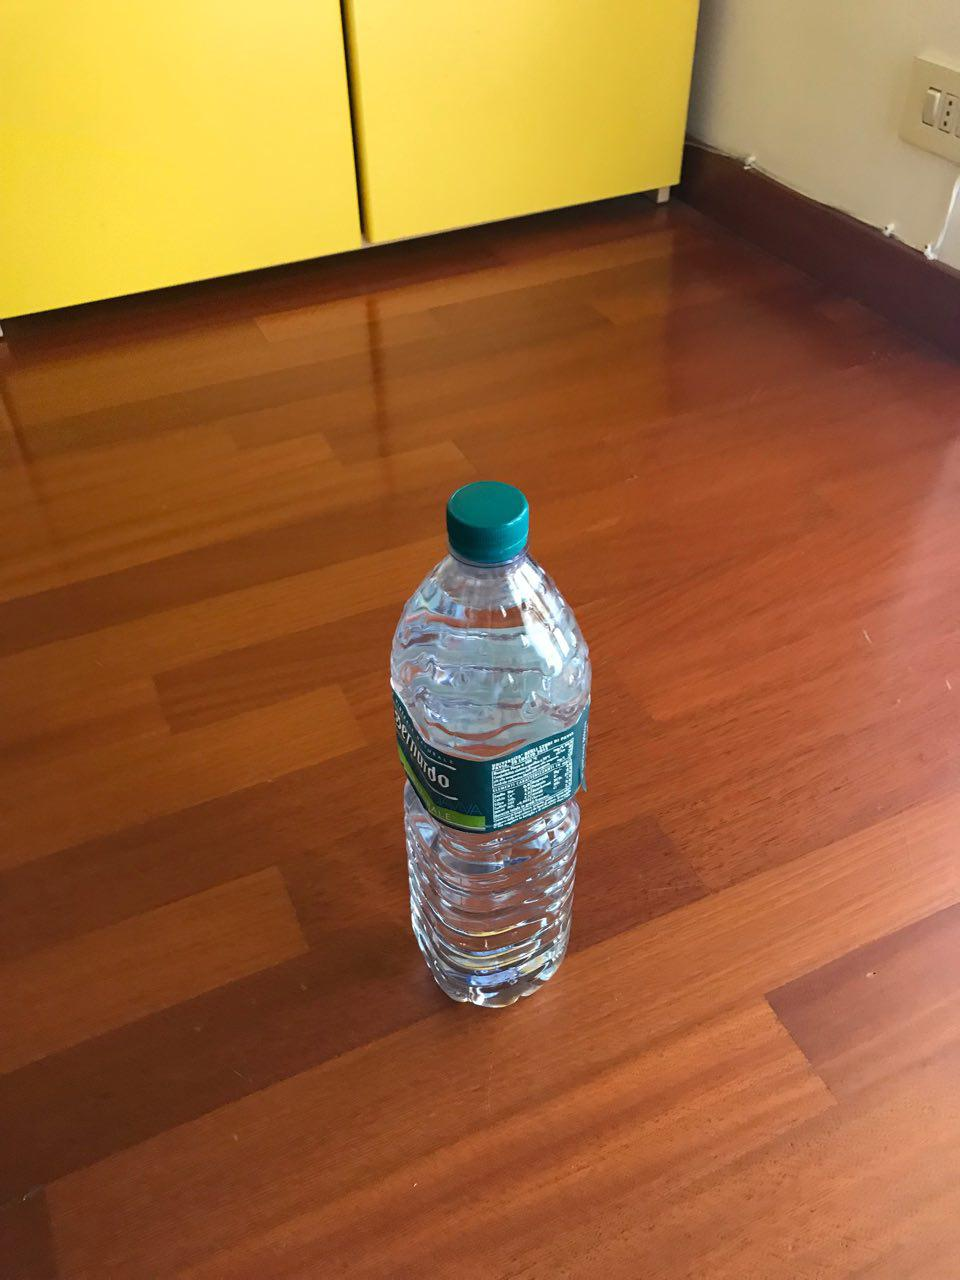san_bernardo: (387, 478, 592, 1010)
